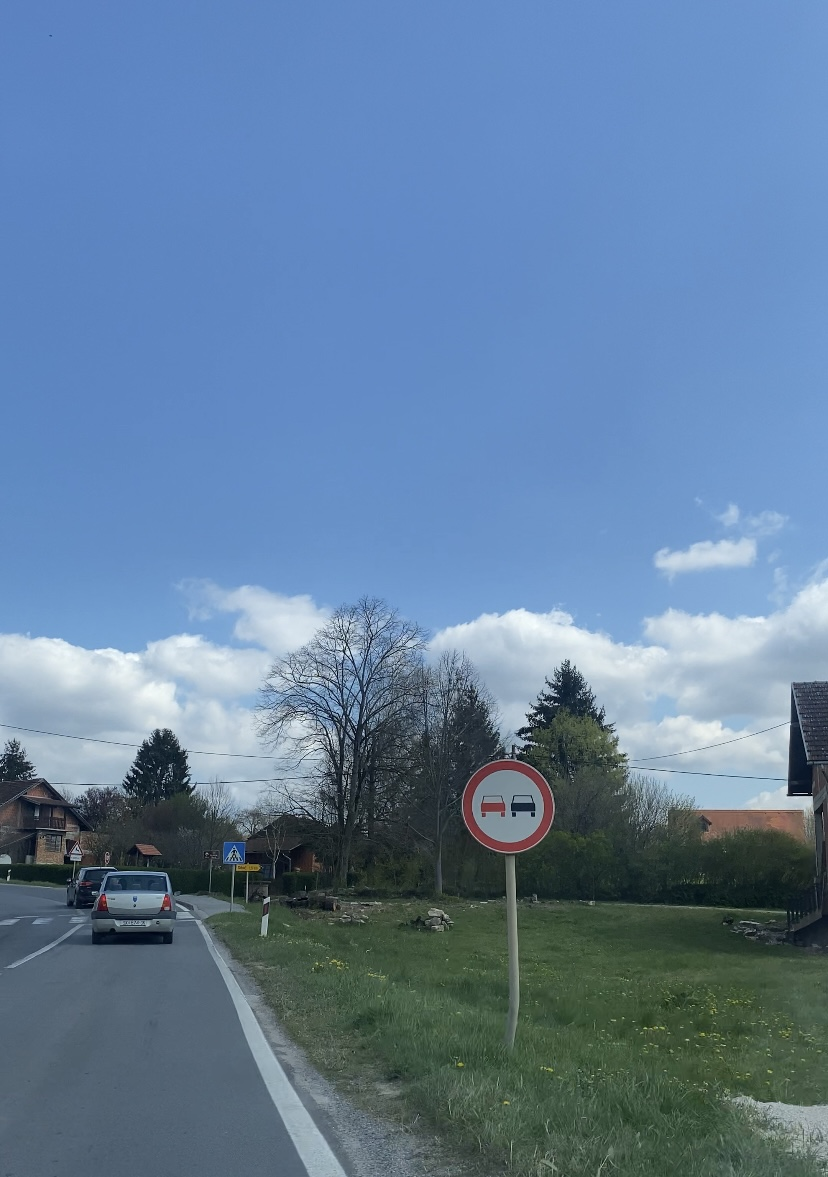Pješački prijelaz: (223, 842, 246, 865)
Zabrana pretjecanja: (462, 759, 555, 853)
